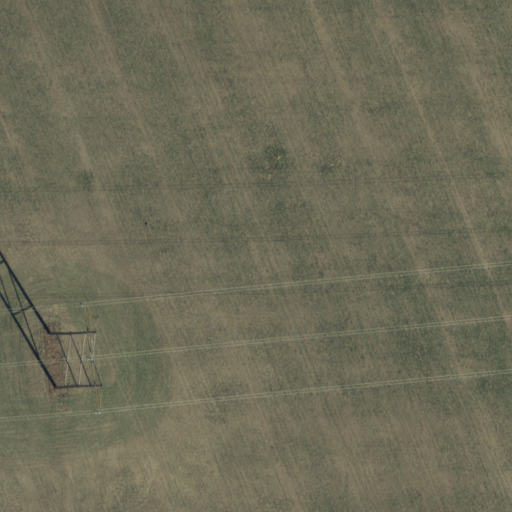TT: (44, 294, 113, 421)
